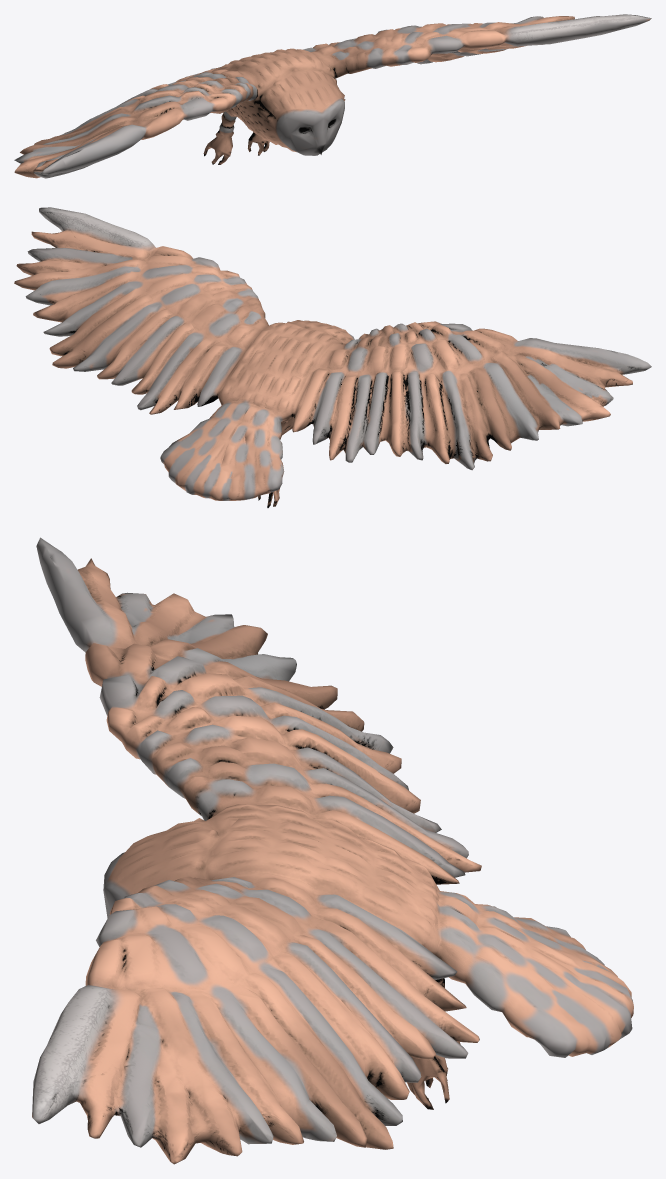
The model's file is MZ4250 - Clockwork Owl - Copper.glb.
3 renders of one model, top to bottom at view 1: azimuth 30°, elevation 25°; view 2: azimuth 150°, elevation 25°; view 3: azimuth 270°, elevation 25°, orthographic. The views are drawn at different scales.
Parts seen in each view (by area): view 1: Clockwork Owl_low.001; view 2: Clockwork Owl_low.001; view 3: Clockwork Owl_low.001.
Part boxes in pixels (<box>): Clockwork Owl_low.001: <box>14,14,651,178</box>; Clockwork Owl_low.001: <box>14,207,651,507</box>; Clockwork Owl_low.001: <box>32,537,633,1164</box>.
Size of the model in its own units: 2 by 0.4769 by 0.8532.
1 material, 1 textured.
